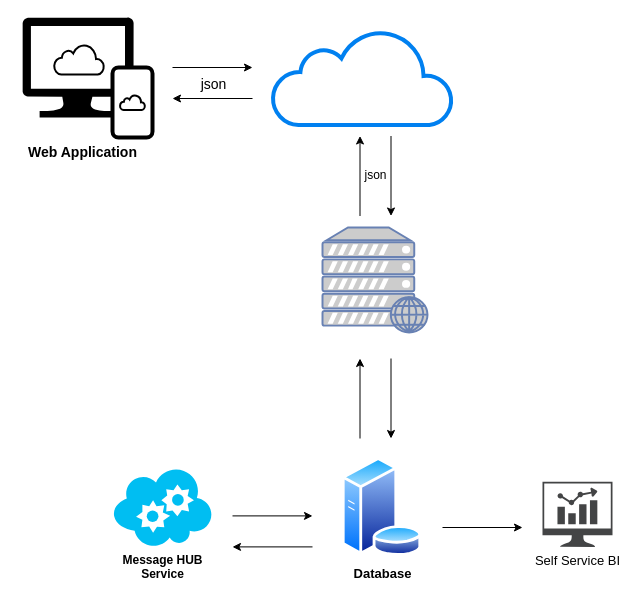
Some shapes in this 637 by 600 pixel diagram are drawn without their labels. Each missing label, with the centre of its shape:
"Restful API" belongs at pixel 362 77.
"Web Service" belongs at pixel 374 279.
